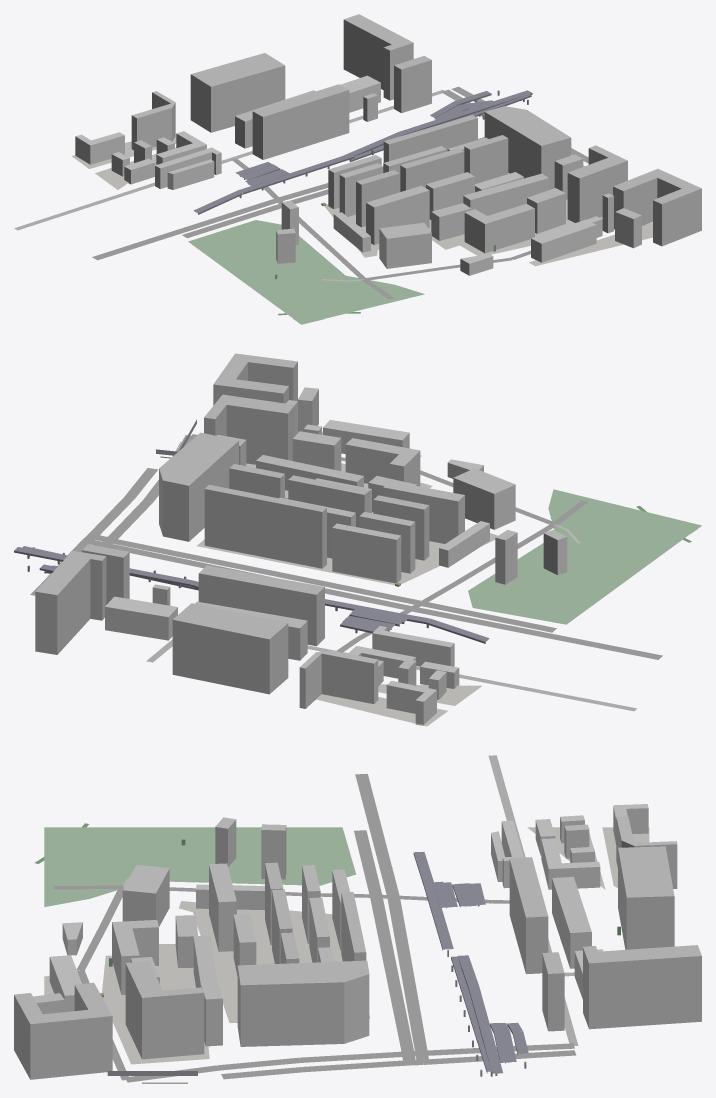
The picture shows the model from 3 angles, top to bottom: view 1: azimuth 30°, elevation 25°; view 2: azimuth 150°, elevation 25°; view 3: azimuth 270°, elevation 25°; orthographic projection. The views are drawn at different scales.
Bounding box in the file's own units: 649 × 65.77 × 568.
